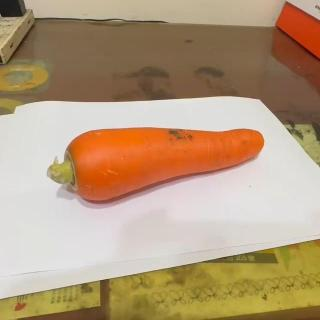carrot: (49, 126, 269, 202)
